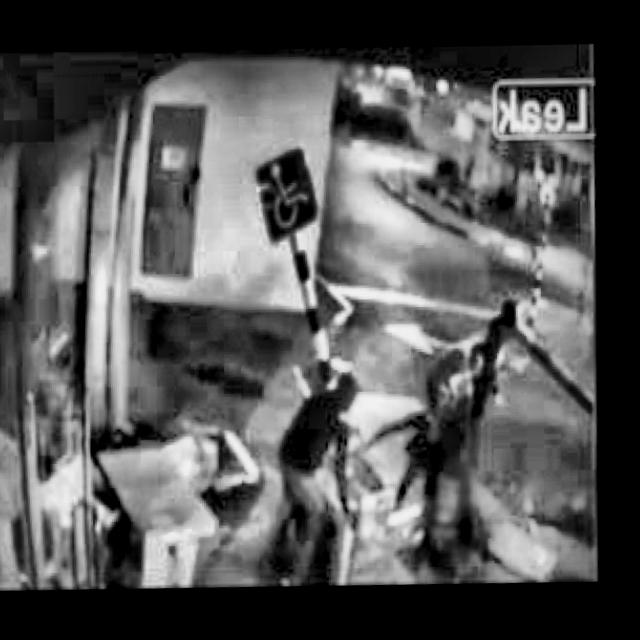burglary: (0, 276, 539, 605)
